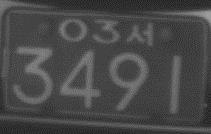0: (58, 17, 89, 43)
1: (160, 54, 192, 114)
3: (11, 46, 53, 105), (91, 18, 120, 44)
4: (58, 48, 100, 109)
9: (108, 51, 150, 111)
서: (125, 21, 153, 46)
